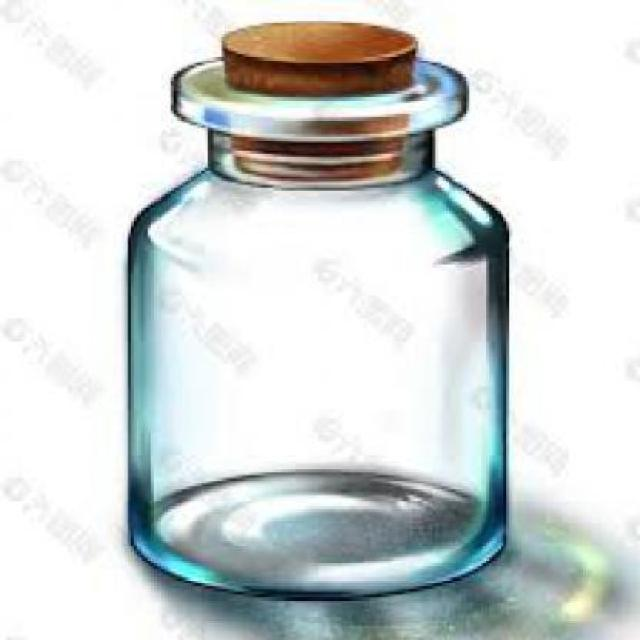kaca: (122, 54, 509, 597)
